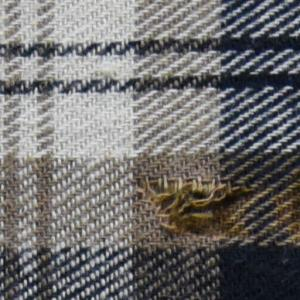Damage: (135, 166, 264, 254)
Oil Stain: (279, 172, 300, 251)
